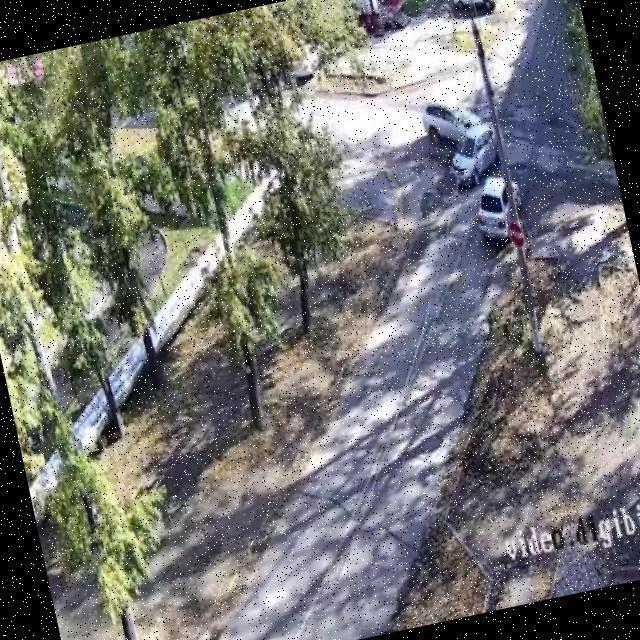accident: (417, 85, 509, 193)
